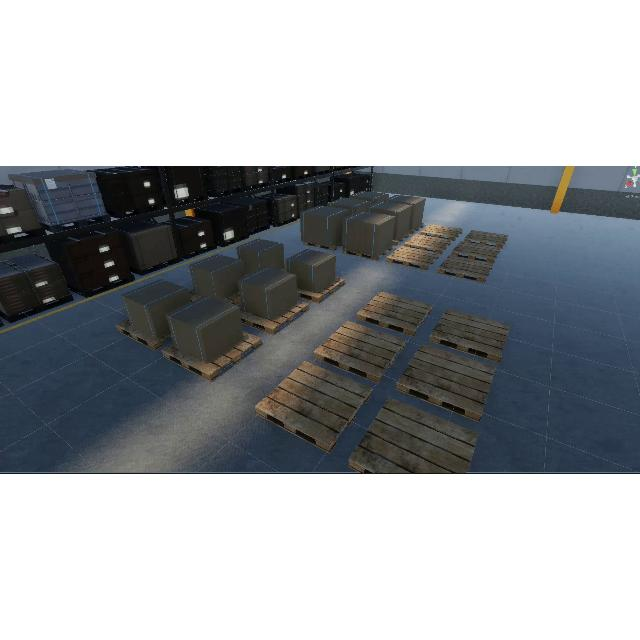wooden_pallet: (255, 360, 371, 454), (396, 343, 496, 424), (314, 321, 406, 384), (160, 330, 262, 382), (428, 308, 510, 363), (357, 291, 432, 337), (241, 300, 309, 335), (115, 318, 172, 351), (437, 255, 493, 282), (297, 276, 345, 304), (386, 246, 440, 270), (451, 241, 500, 263), (404, 234, 451, 254), (464, 229, 508, 249), (420, 223, 463, 241)
